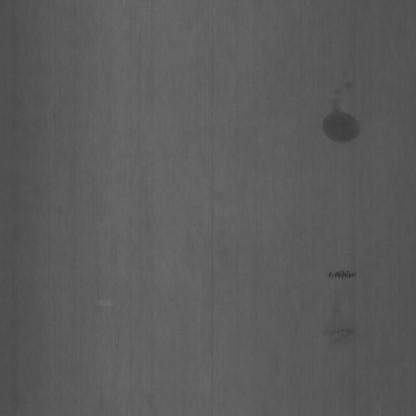oil_spot: (320, 84, 364, 157), (322, 261, 365, 285)
